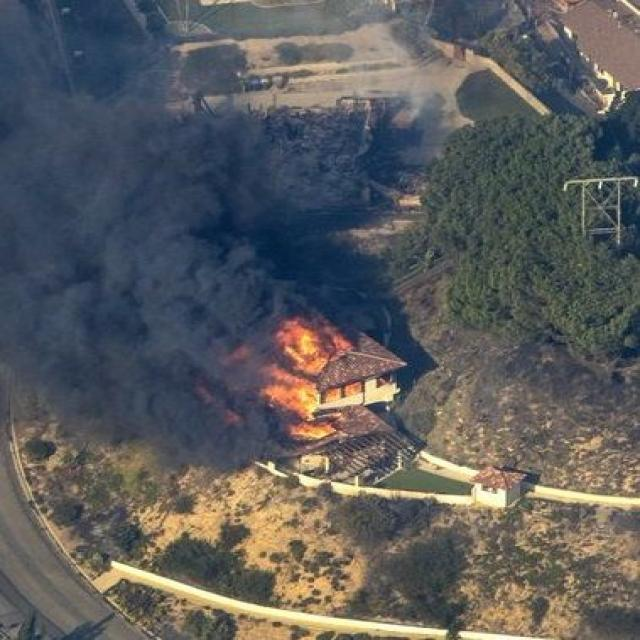Fire: (264, 328, 372, 454)
Smoke: (0, 0, 471, 486)
